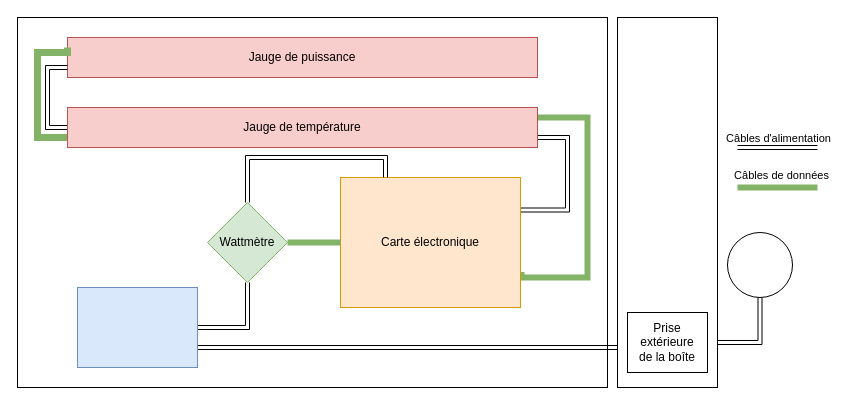
The diagram is 848 pixels wide and 405 high, and some of its shapes have lost their labels. The shapes that lost their labels are listed below. From the top down, each one's centre as x and y in pixels, then its label:
pixel 759 265: Chargeur
pixel 137 327: Batterie
